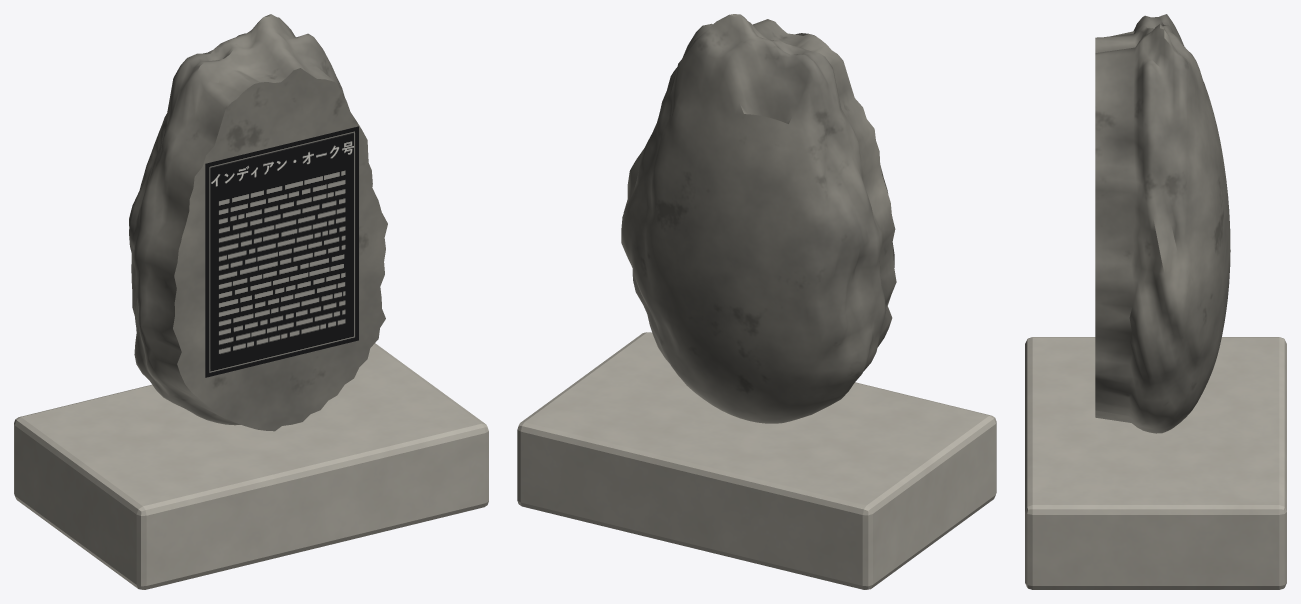
File: IndianOak_Monument.gltf
3 renders of one model, left to right at view 1: azimuth 30°, elevation 25°; view 2: azimuth 150°, elevation 25°; view 3: azimuth 270°, elevation 25°, orthographic.
Parts seen in each view (by area): view 1: IndianOak_Monument; view 2: IndianOak_Monument; view 3: IndianOak_Monument.
Part boxes in pixels (x1=…): IndianOak_Monument: x1=14, y1=14, x2=488, y2=589; IndianOak_Monument: x1=517, y1=14, x2=996, y2=589; IndianOak_Monument: x1=1025, y1=14, x2=1286, y2=589.
Bounding box in the file's own units: 1.1 × 1.44 × 0.7.
3 materials, 3 textured.
